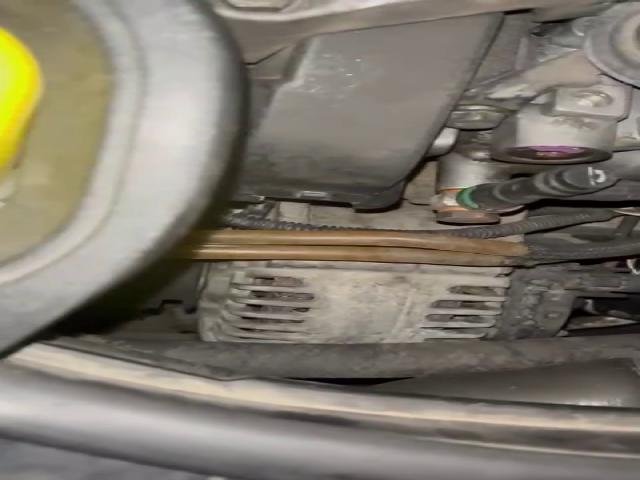alternator: (197, 264, 629, 344)
high_pressure_pump: (453, 3, 638, 178)
